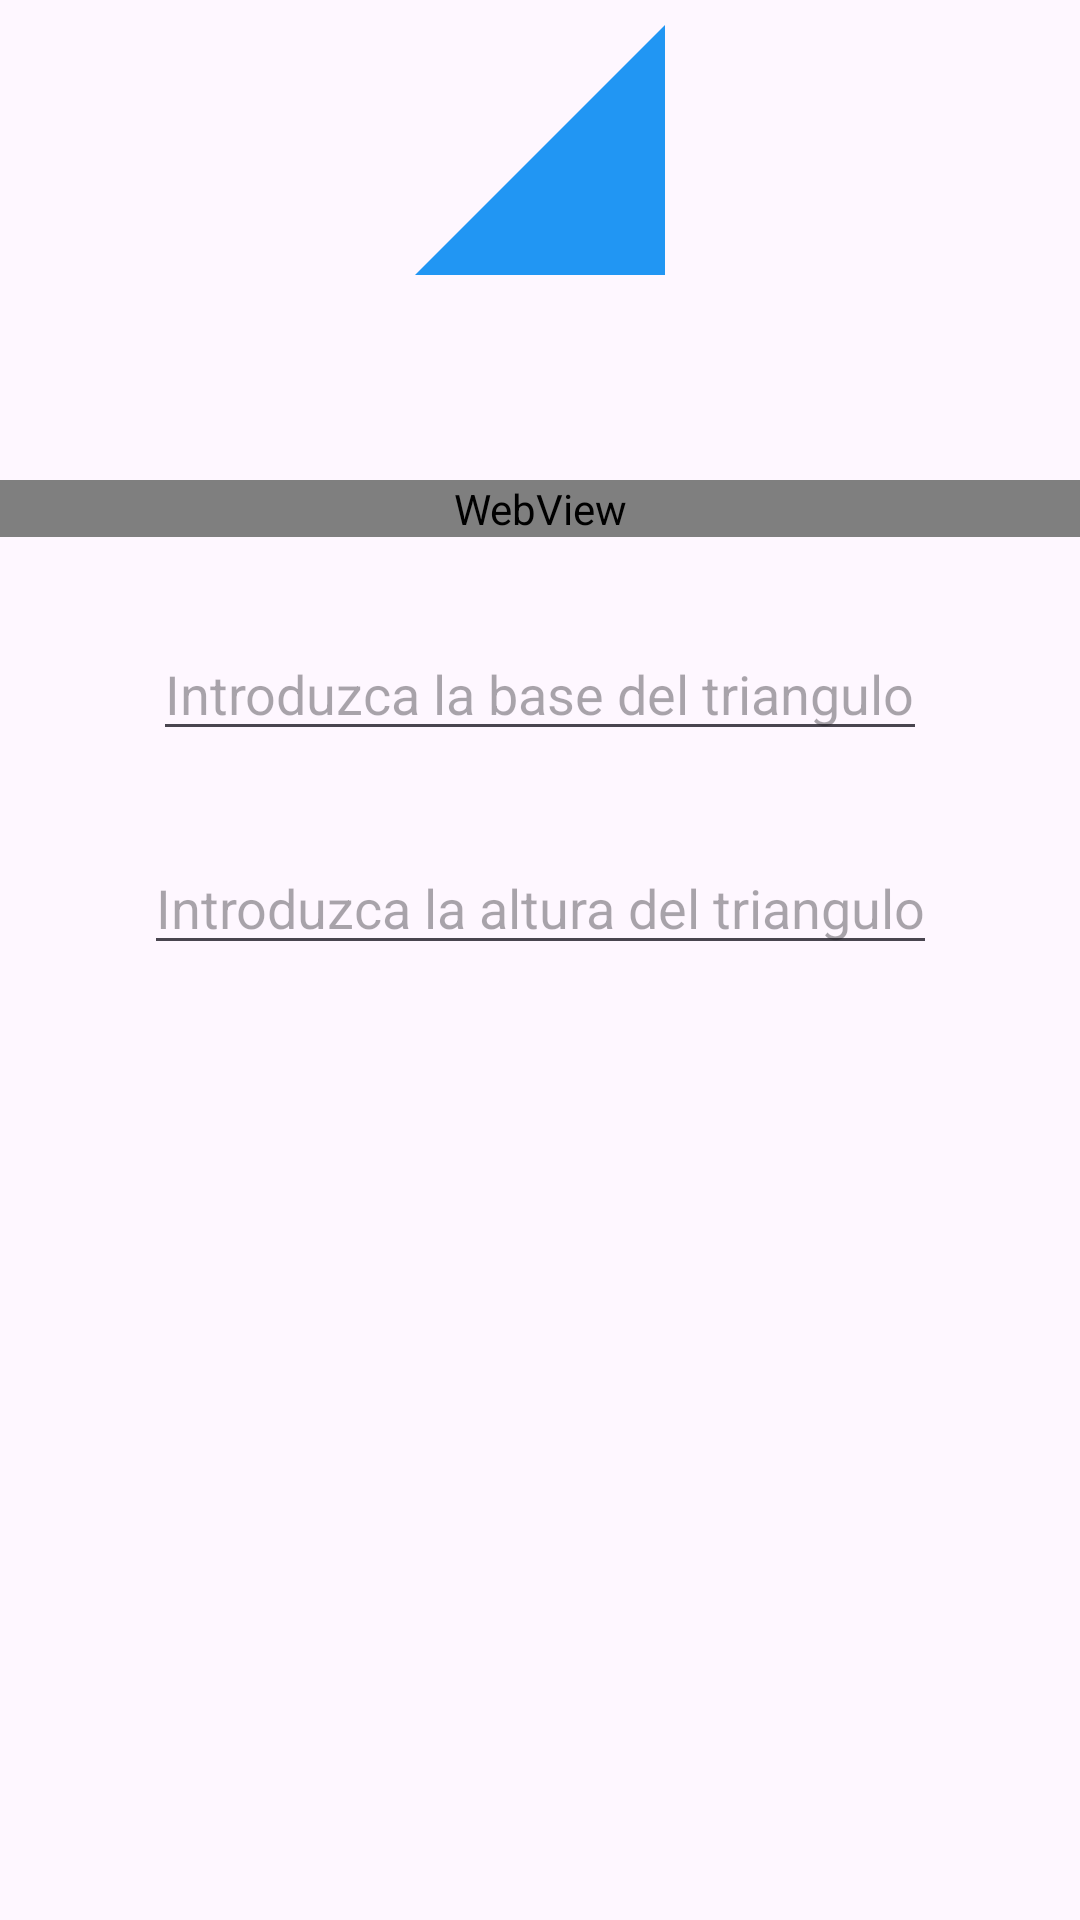

Where icons sit on this 1080 x 1920 app screen, as Rect(x1, y1, x2, y2):
Figura de un triangulo: Rect(415, 25, 665, 275)
